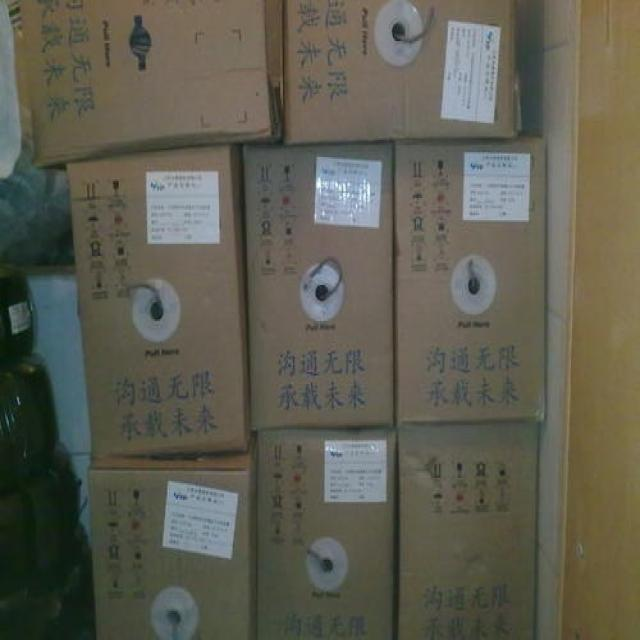box: (68, 147, 251, 456), (6, 0, 284, 167), (394, 135, 548, 422), (244, 143, 393, 430), (283, 0, 521, 145), (90, 437, 257, 638), (397, 422, 540, 638), (256, 428, 394, 638)
